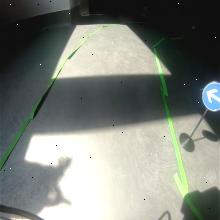left: (201, 81, 220, 112)
